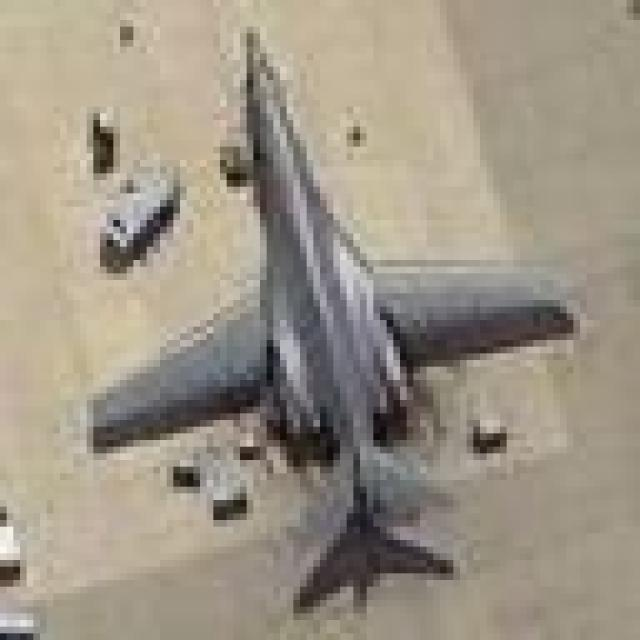B-1_TopDown: (76, 24, 593, 609)
